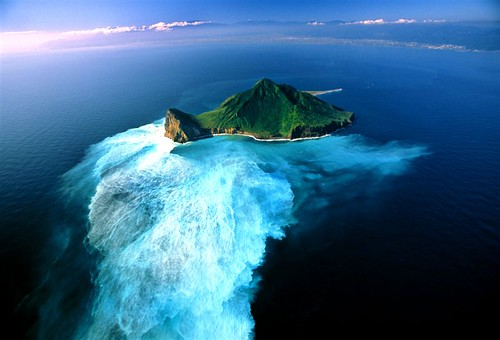turtleIslandTop: (165, 73, 362, 141)
